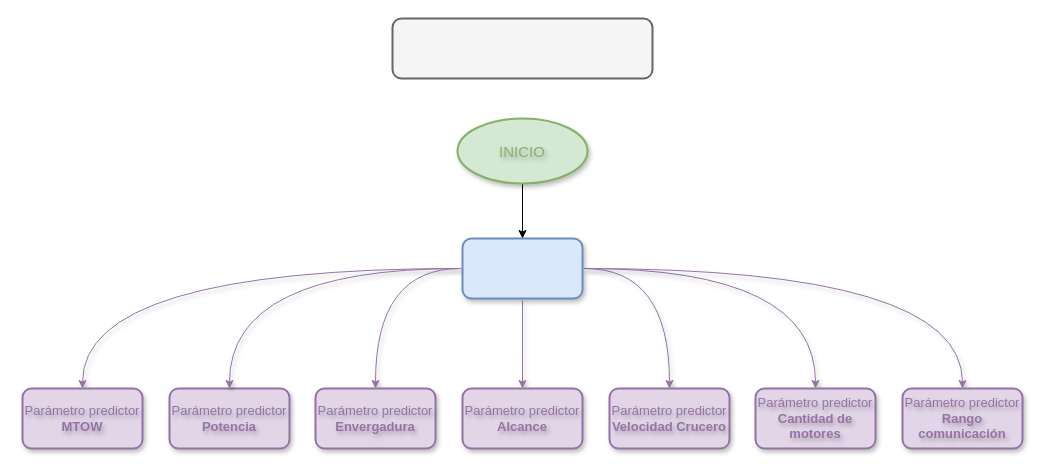
Some shapes in this 1046 by 473 pixel diagram are drawn without their labels. The centre of each missing label's shape, as x and y in pixels:
"Para 1 predictor" goes at point 522,48.
"Parametro objetivo Payload" goes at point 523,269.
